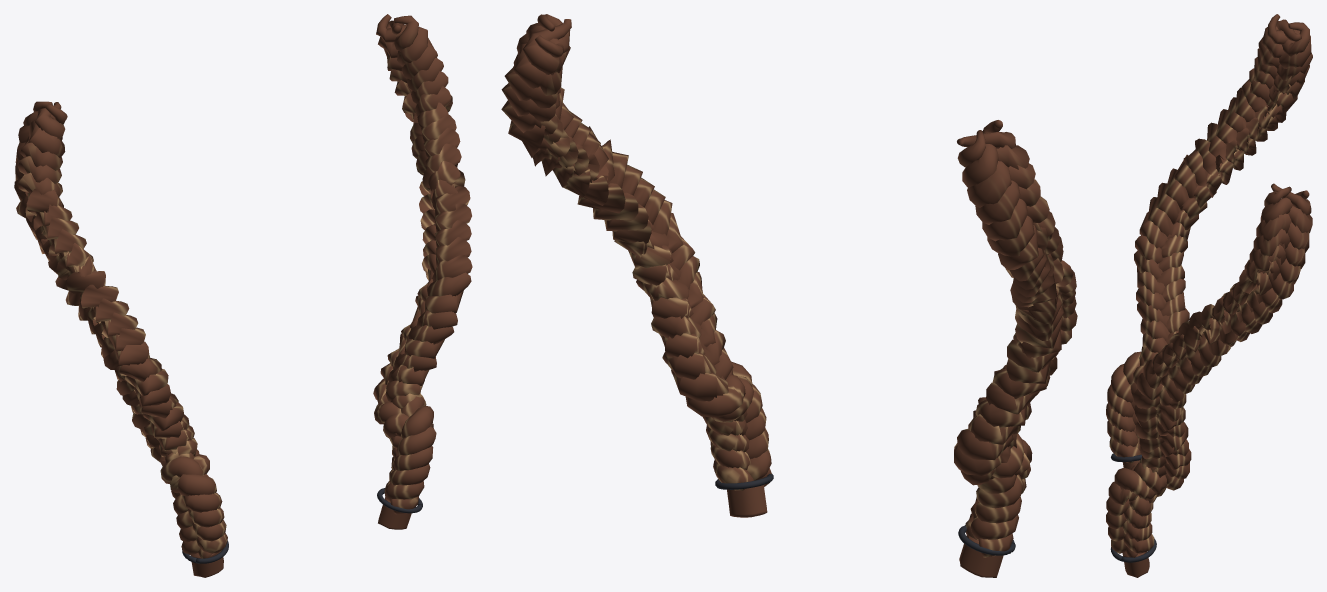
File: Highlights-aa1585a6a48d252-hair.glb
3 renders of one model, left to right at view 1: azimuth 30°, elevation 25°; view 2: azimuth 150°, elevation 25°; view 3: azimuth 270°, elevation 25°, orthographic. The views are drawn at different scales.
Parts seen in each view (by area): view 1: 226 hairLengths / Hair / chestnut226, 226 hairLengths / Hair / ties226; view 2: 226 hairLengths / Hair / chestnut226, 226 hairLengths / Hair / ties226; view 3: 226 hairLengths / Hair / chestnut226, 226 hairLengths / Hair / ties226.
Part boxes in pixels (x1,y1,x2,y2): 226 hairLengths / Hair / chestnut226: [14, 14, 472, 577]; 226 hairLengths / Hair / ties226: [182, 488, 422, 563]; 226 hairLengths / Hair / chestnut226: [501, 14, 1077, 577]; 226 hairLengths / Hair / ties226: [715, 474, 1015, 555]; 226 hairLengths / Hair / chestnut226: [1106, 14, 1312, 577]; 226 hairLengths / Hair / ties226: [1110, 453, 1156, 562].
Size of the model in its own units: 1.09 by 1.05 by 0.4628.
Materials: 2 (1 with a texture image).
